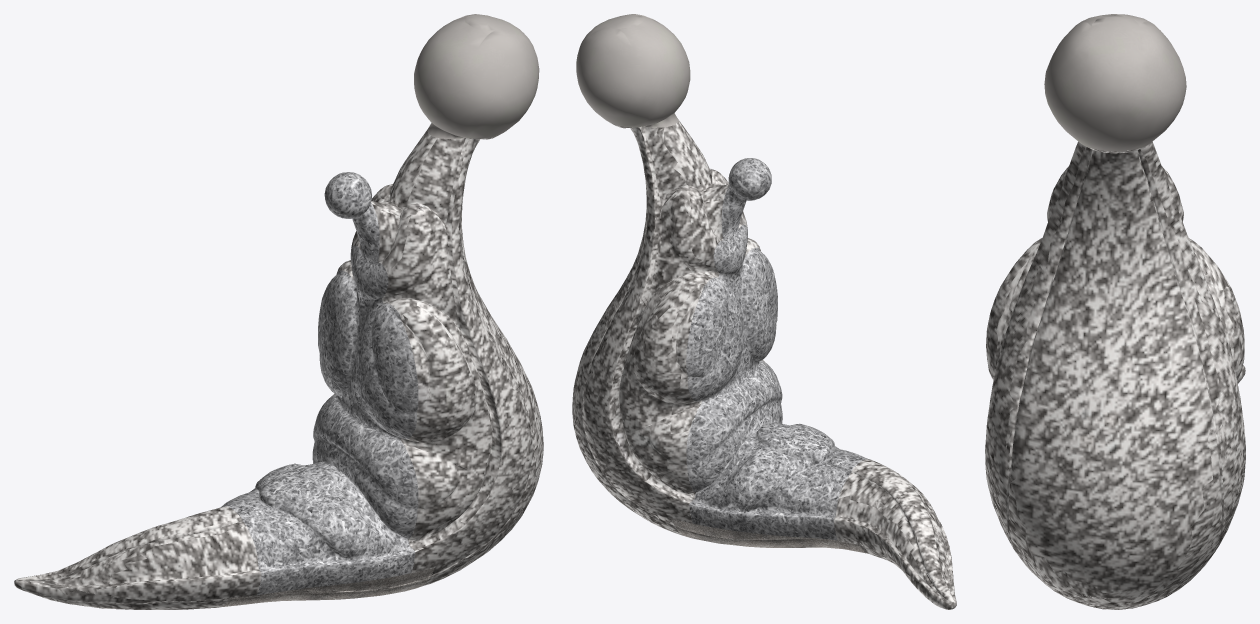
The model's file is 12-seedpod-snailslug--stylized_slug_3d_model.glb.
3 views of the same model, side by side, from view 1: azimuth 30°, elevation 25°; view 2: azimuth 150°, elevation 25°; view 3: azimuth 270°, elevation 25° (orthographic). The views are drawn at different scales.
Visible parts, largest first — view 1: arms_mesh, body_mesh, head_mesh, feet_mesh; view 2: arms_mesh, body_mesh, head_mesh, feet_mesh; view 3: arms_mesh, head_mesh.
Boxes of the visible parts, x1,y1,x2,y2 form: arms_mesh: [14, 129, 543, 609]; body_mesh: [220, 172, 418, 595]; head_mesh: [414, 14, 539, 139]; feet_mesh: [221, 555, 434, 607]; arms_mesh: [572, 119, 956, 609]; body_mesh: [686, 158, 870, 540]; head_mesh: [576, 14, 690, 127]; feet_mesh: [671, 519, 867, 553]; arms_mesh: [985, 141, 1245, 609]; head_mesh: [1044, 14, 1186, 151].
Size of the model in its own units: 2.7 by 3 by 1.15.
Materials: 4 (4 with a texture image).
